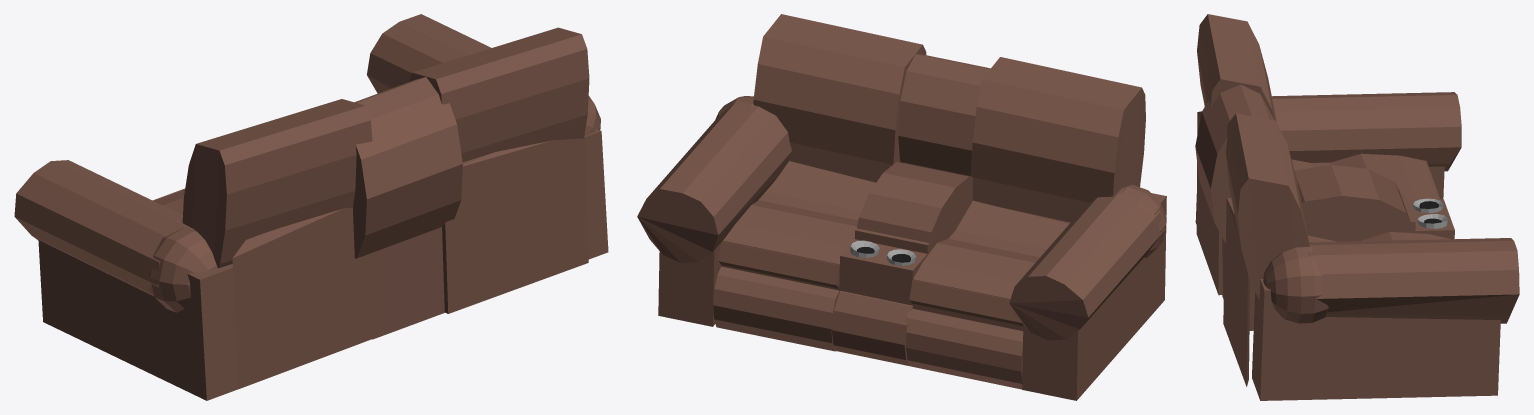
3 renders of one model, left to right at view 1: azimuth 30°, elevation 25°; view 2: azimuth 150°, elevation 25°; view 3: azimuth 270°, elevation 25°, orthographic. The views are drawn at different scales.
Visible parts, largest first — view 1: group_2081183087; view 2: group_2081183087; view 3: group_2081183087.
Boxes of the visible parts, left/top/right/bottom form: group_2081183087: left=14, top=14, right=608, bottom=400; group_2081183087: left=637, top=14, right=1166, bottom=400; group_2081183087: left=1195, top=14, right=1519, bottom=400.
Bounding box in the file's own units: 52.11 × 26.33 × 32.41.
